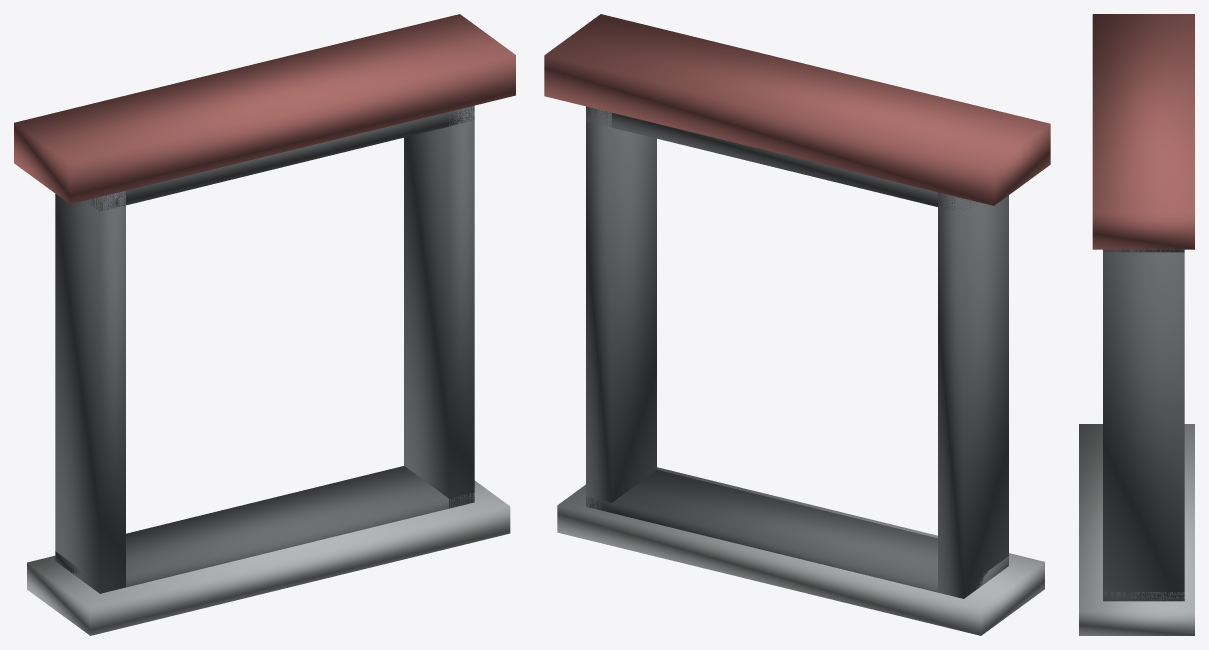
The model's file is egress_window_brick_w100_h110_s88_d24.glb.
The picture shows the model from 3 angles, left to right: view 1: azimuth 30°, elevation 25°; view 2: azimuth 150°, elevation 25°; view 3: azimuth 270°, elevation 25°; orthographic projection. The views are drawn at different scales.
Parts seen in each view (by area): view 1: world; view 2: world; view 3: world.
Part boxes in pixels (bbox=[...]): world: bbox=[14, 14, 515, 635]; world: bbox=[544, 14, 1050, 635]; world: bbox=[1079, 14, 1194, 635].
Bounding box in the file's own units: 1.38 × 1.39 × 0.34.
